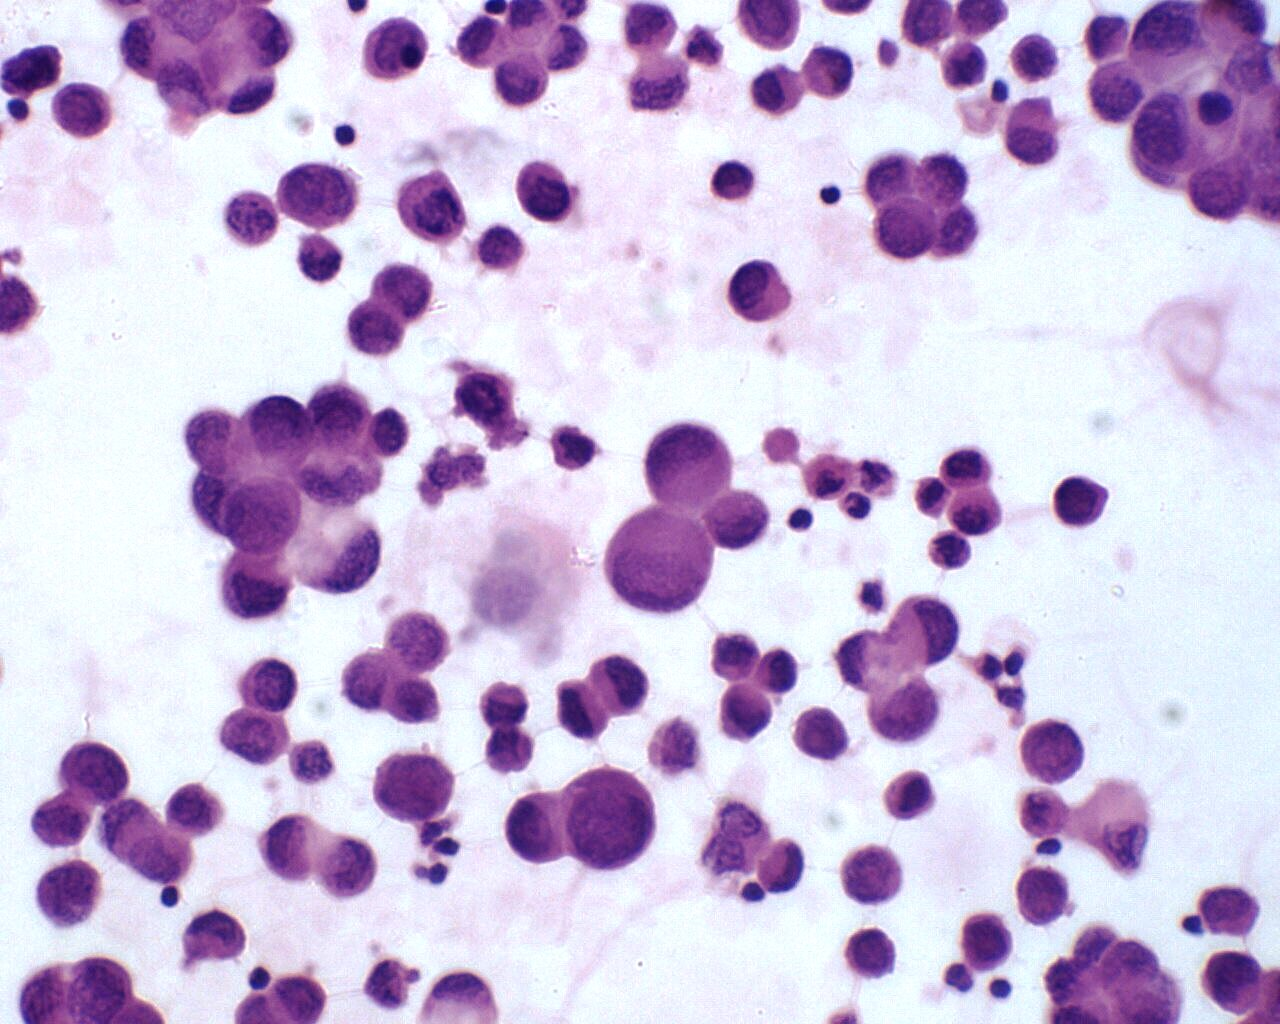ab: (603, 501, 720, 619), (566, 760, 664, 872), (638, 414, 736, 506), (217, 472, 305, 557), (371, 748, 460, 827), (393, 167, 473, 248), (495, 784, 571, 869), (278, 157, 360, 232), (34, 856, 111, 933), (1195, 942, 1269, 1017), (360, 14, 432, 89), (59, 738, 134, 809), (1013, 716, 1086, 788), (317, 831, 386, 904), (870, 193, 936, 264), (514, 157, 579, 226), (842, 836, 906, 906), (49, 79, 118, 143), (589, 656, 659, 719), (1016, 866, 1081, 930), (1046, 472, 1114, 532), (345, 292, 404, 359), (490, 47, 551, 110), (961, 910, 1020, 975), (716, 682, 774, 745), (236, 655, 300, 713), (792, 704, 851, 763), (845, 926, 900, 981), (1006, 33, 1063, 85)
lymph: (322, 115, 363, 152), (152, 883, 189, 916), (786, 505, 818, 536)
